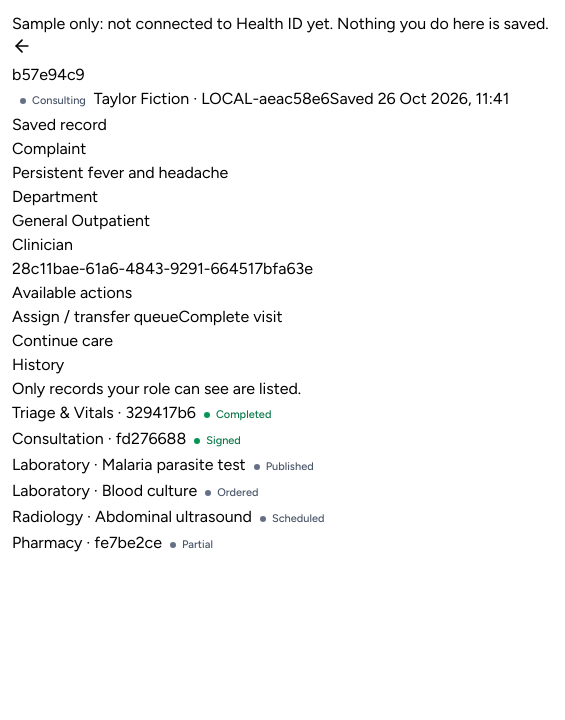
it: journey › renders its first record with saved values, its actions (each opening its form), history and versions
The image size is (565, 720).
Check: the text "Sample only: not connected to Health ID yet. Nothing you do here is saved." is shown once, box x1=12 y1=14 x2=549 y2=33
Check: the heading "b57e94c9" is shown, box x1=12 y1=65 x2=85 y2=84
Click the button "Assign / transfer queue": (95, 317) x1=12 y1=305 x2=178 y2=329
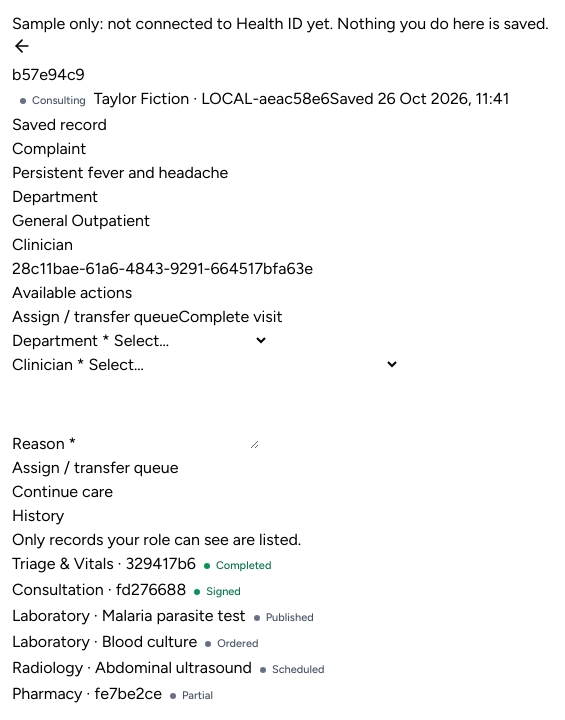
Check: the button "Assign / transfer queue" below "Reason" is shown, box x1=12 y1=456 x2=178 y2=480
Click the button "Complete visit": (230, 317) x1=178 y1=305 x2=282 y2=329
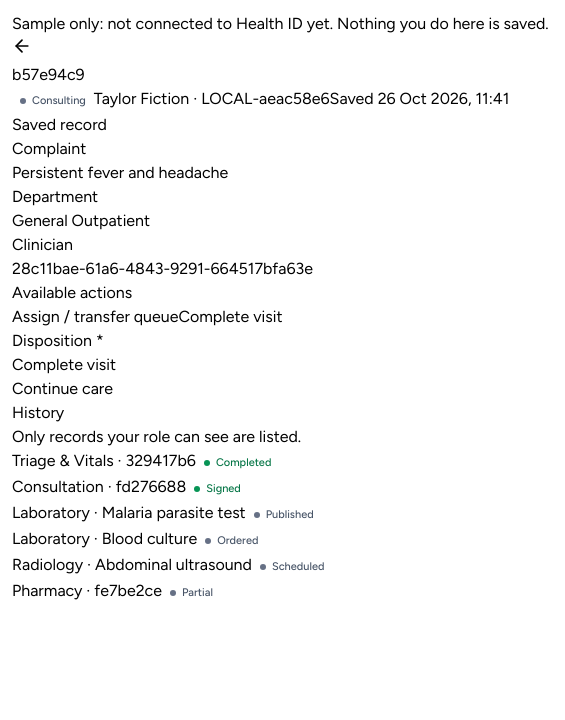
Check: the button "Complete visit" below "Disposition" is shown, box x1=12 y1=353 x2=116 y2=377
